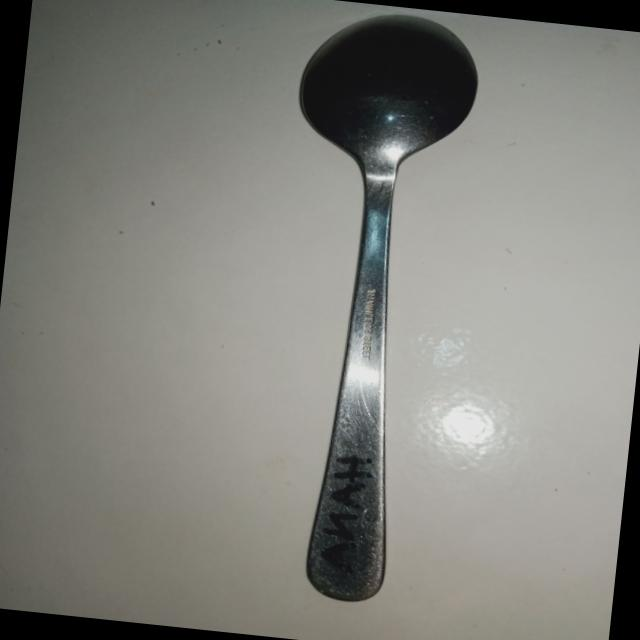spoon: (222, 0, 488, 615)
